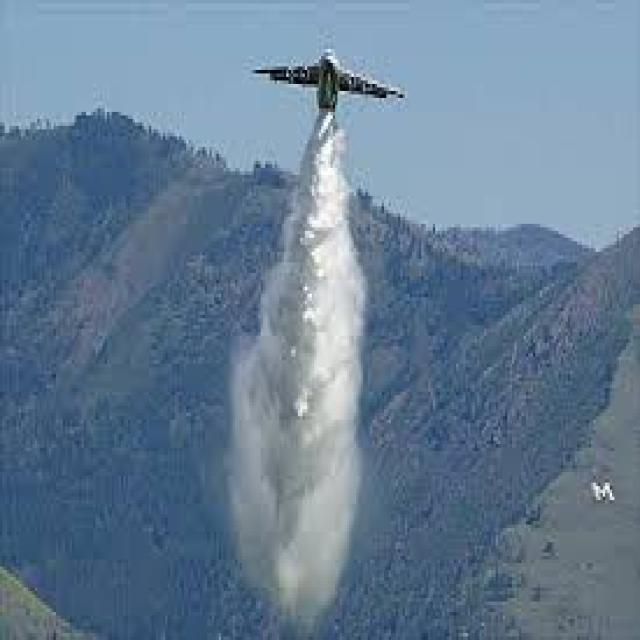Smoke: (225, 108, 369, 640)
